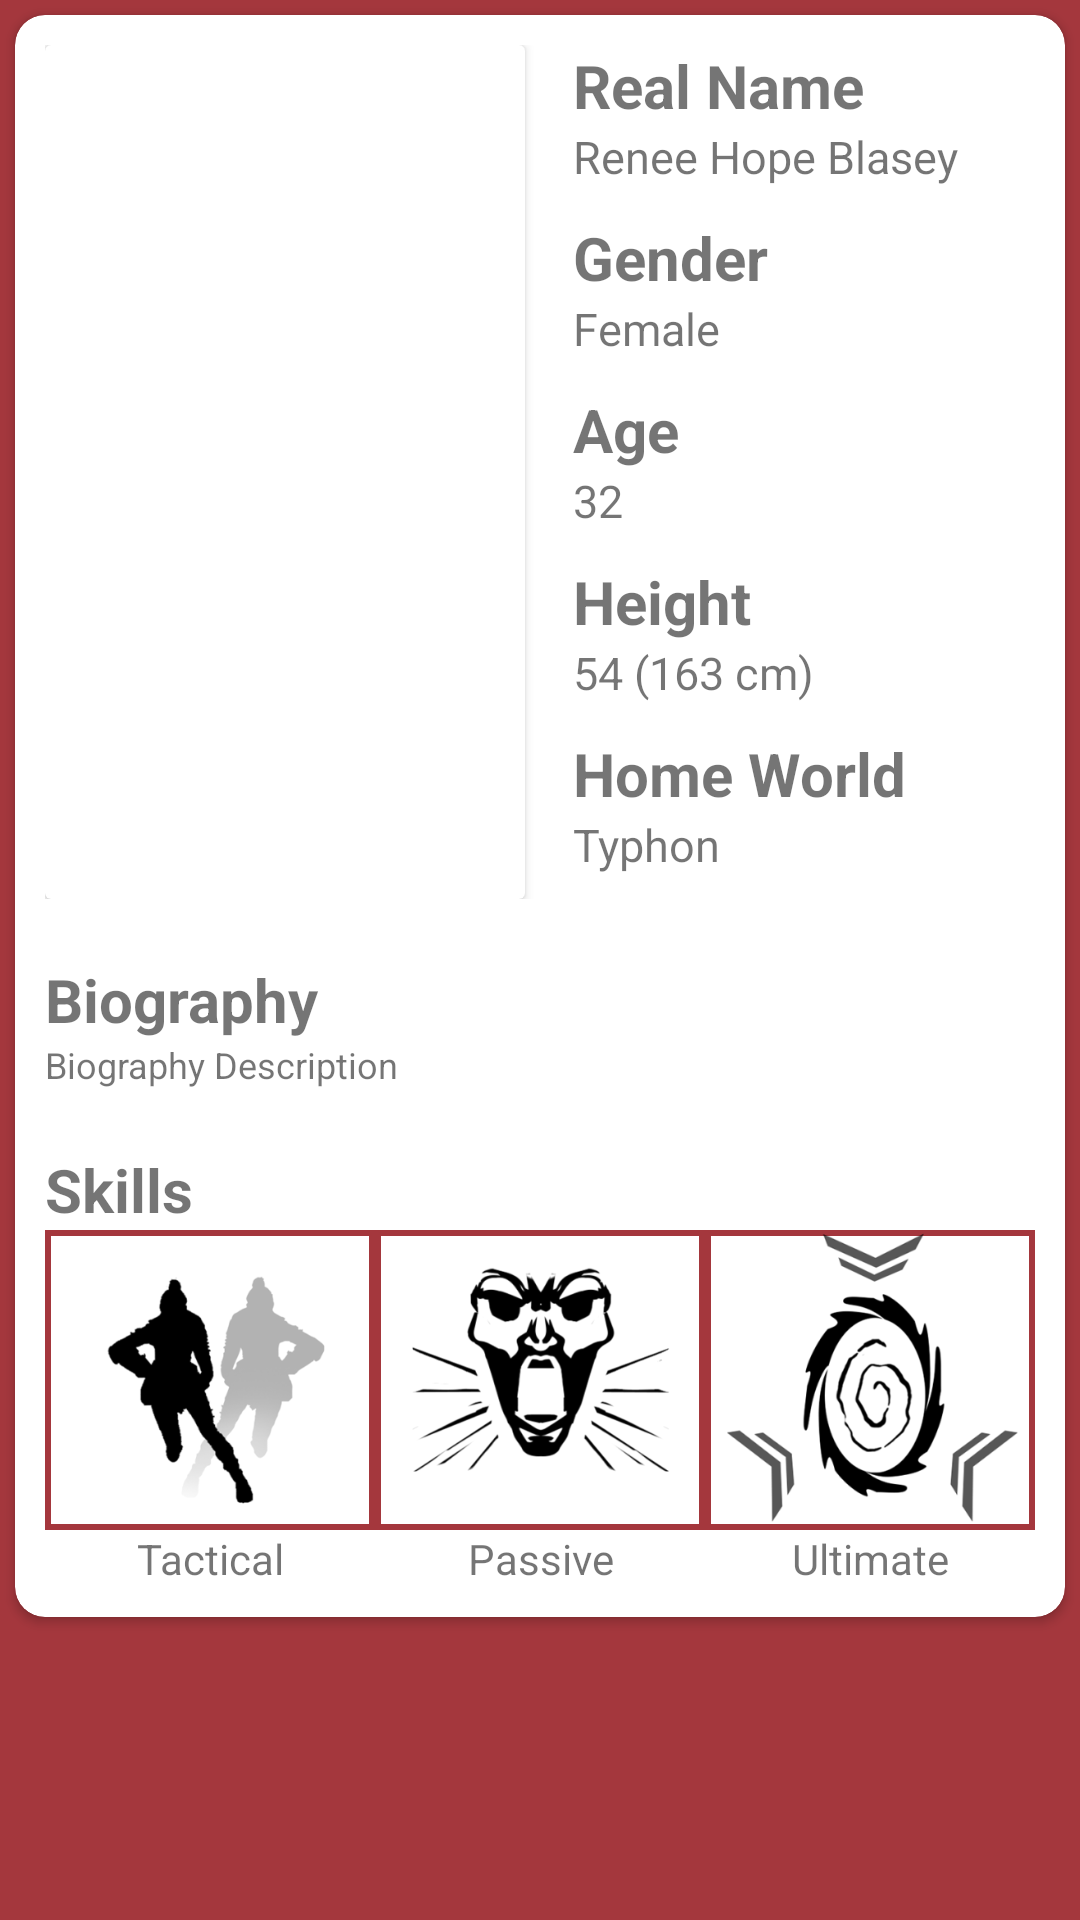

Screen size 1080px×1920px. Icon name, then its box in pixels as [x1, y1, x2, y2]:
wraith skillp: [381, 1236, 699, 1524]
wraith skillu: [727, 1257, 1018, 1521]
